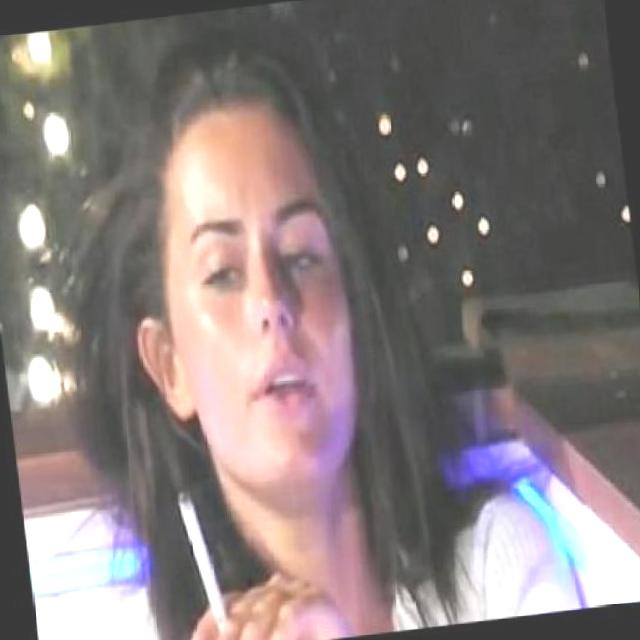smoke: (170, 485, 231, 640)
